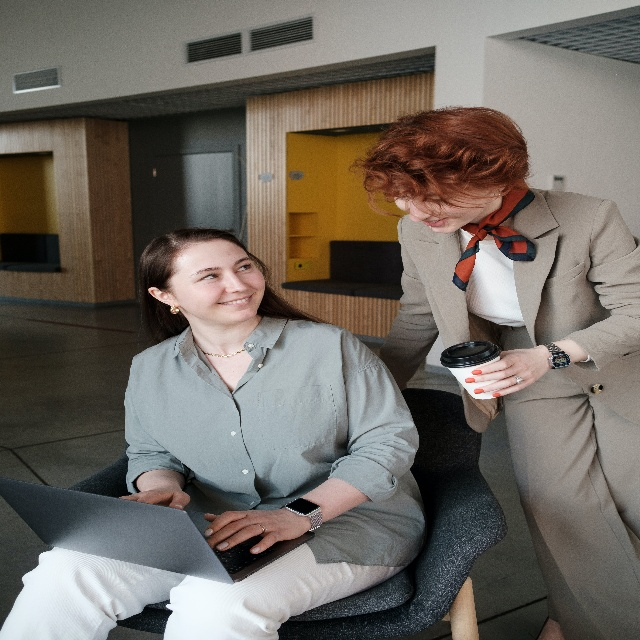Sin_guantes: (206, 509, 312, 549), (466, 347, 549, 393), (120, 484, 192, 510)
